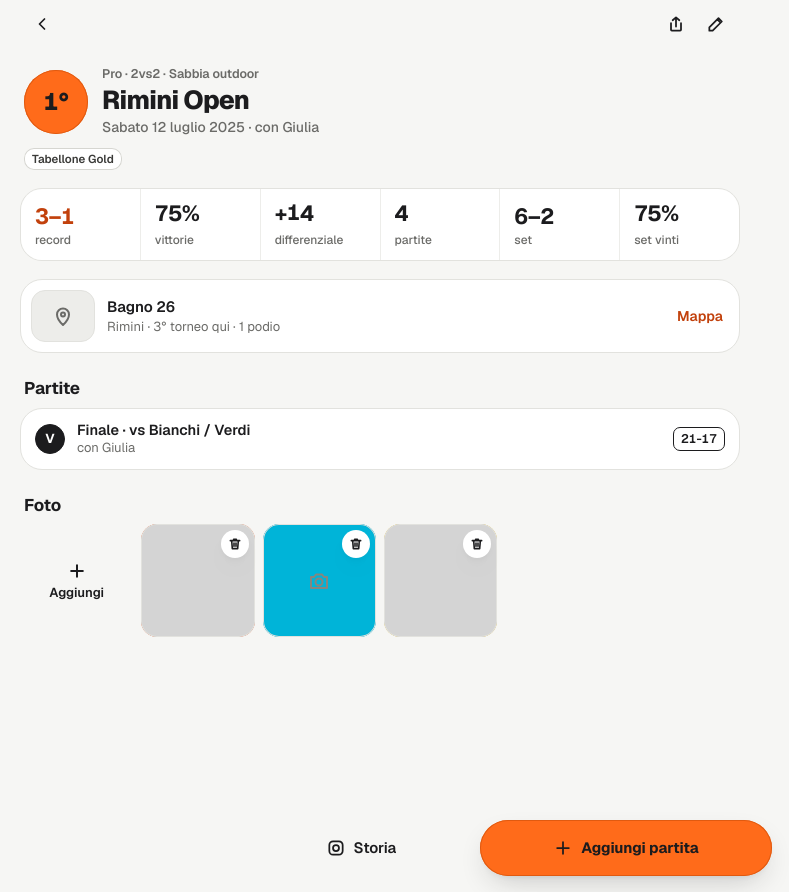
Scenario: TorneoDetail — il luogo › «Mappa» apre la mappa e il link esterno; di nuovo, la chiude
This screenshot has width=789, height=892.
Click the button "Bagno 26 Rimini · 3° torneo qui · 1 podio Mappa": (63, 316) [20,279,740,353]
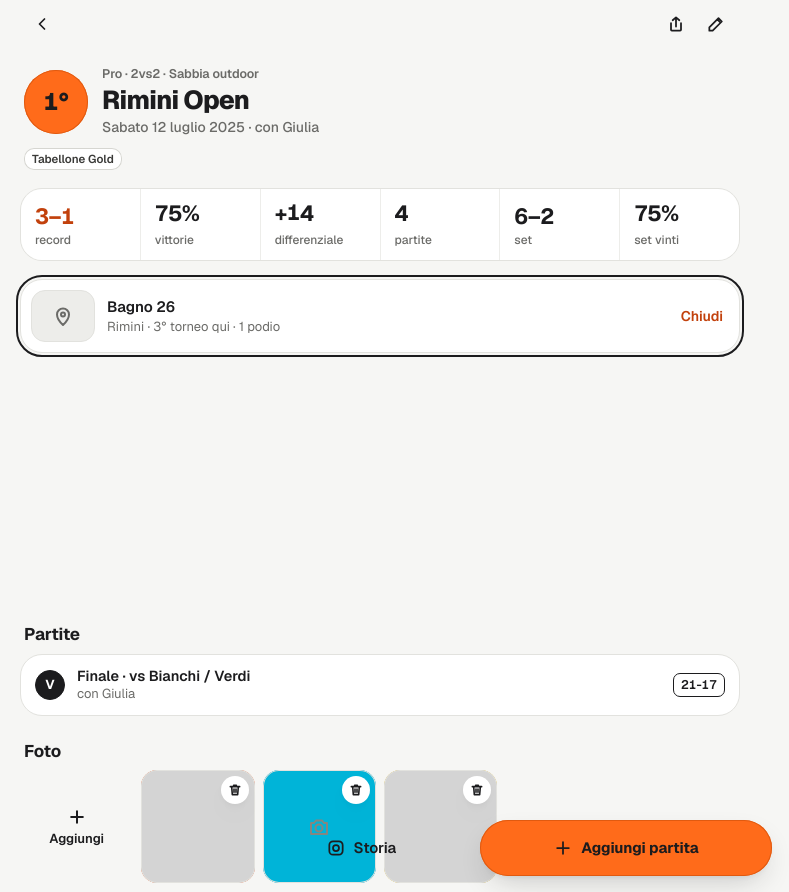
Expected: the button "Bagno 26 Rimini · 3° torneo qui · 1 podio Chiudi" is expanded
Click the button "Bagno 26 Rimini · 3° torneo qui · 1 podio Chiudi": (63, 316) [20,279,740,353]
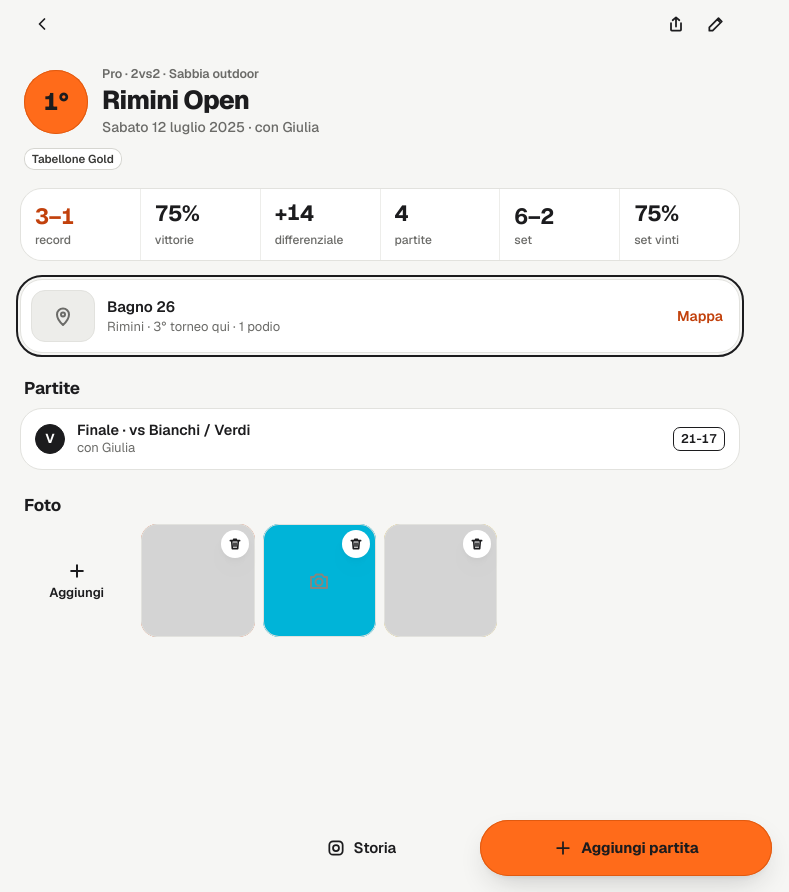
Expected: the button "Bagno 26 Rimini · 3° torneo qui · 1 podio Mappa" is collapsed, [20,279,740,353]
